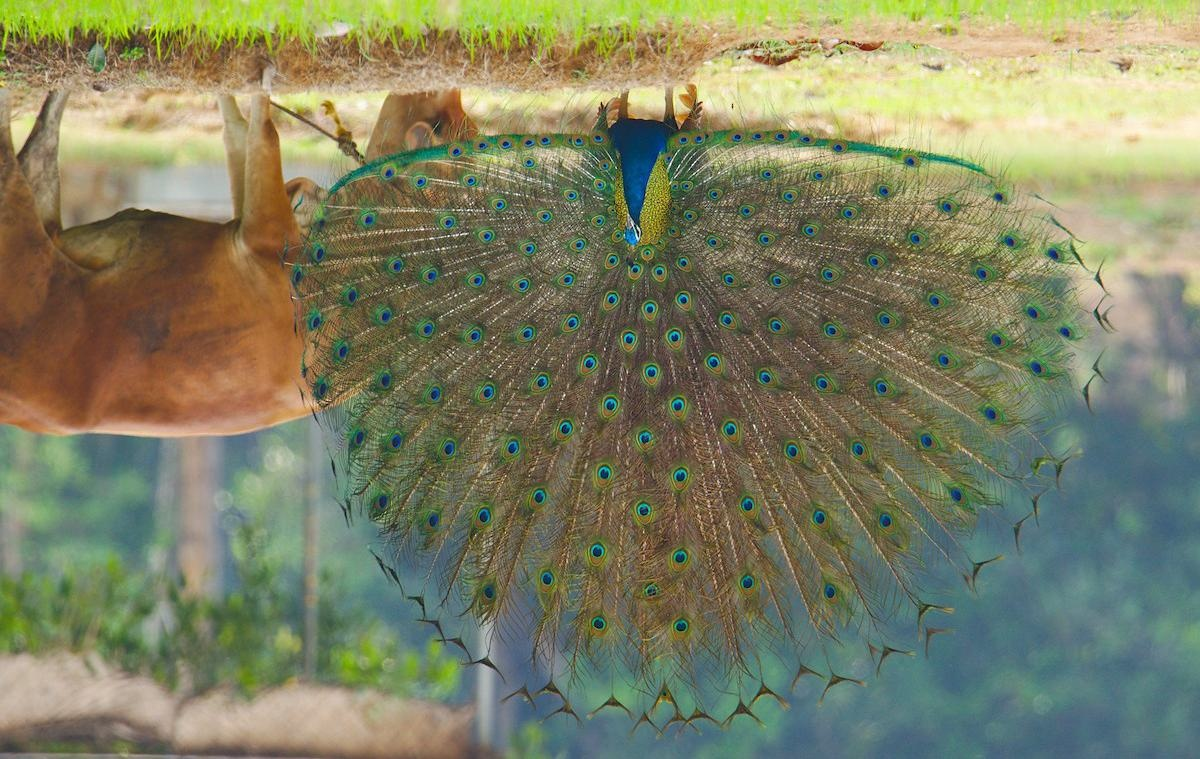peacock: (356, 119, 1073, 629)
